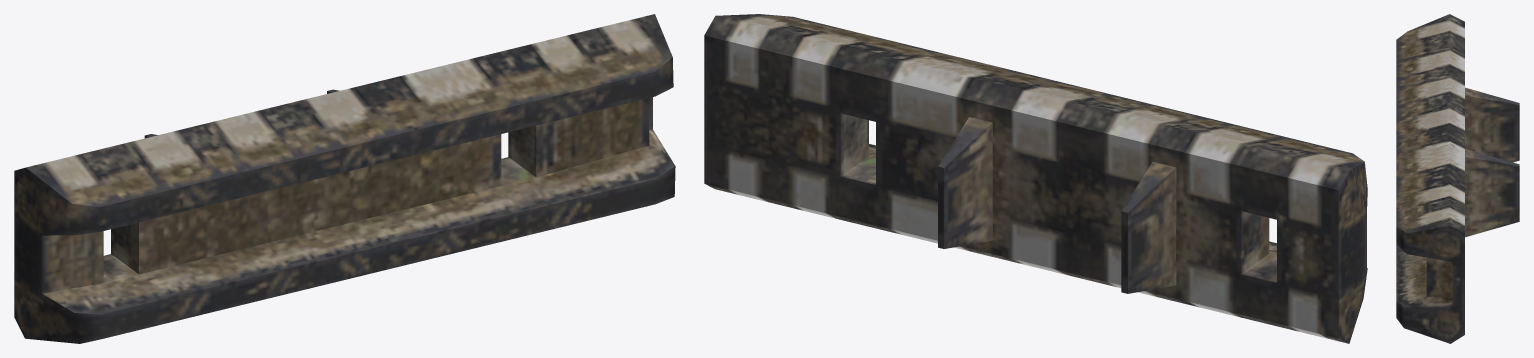
The picture shows the model from 3 angles, left to right: view 1: azimuth 30°, elevation 25°; view 2: azimuth 150°, elevation 25°; view 3: azimuth 270°, elevation 25°; orthographic projection. The views are drawn at different scales.
Parts seen in each view (by area): view 1: set_0_group_0; view 2: set_0_group_0; view 3: set_0_group_0.
Part boxes in pixels (bbox=[...]): set_0_group_0: bbox=[14, 14, 675, 343]; set_0_group_0: bbox=[704, 14, 1367, 343]; set_0_group_0: bbox=[1396, 14, 1519, 343].
Bounding box in the file's own units: 0.8 × 0.2083 × 0.1966.
Materials: 1 (1 with a texture image).
